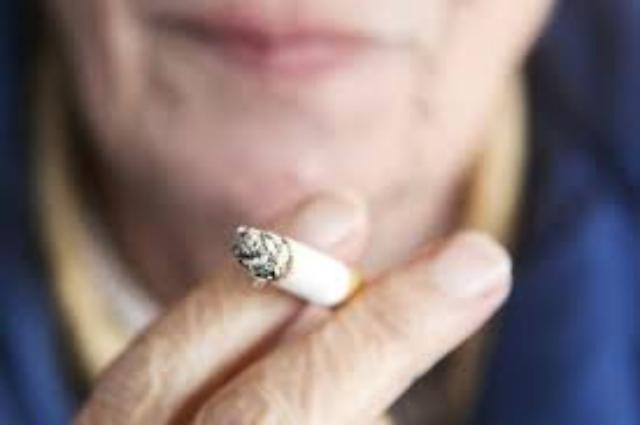Smoking: (232, 223, 386, 323)
